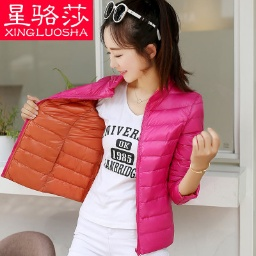face: (95, 1, 195, 93)
